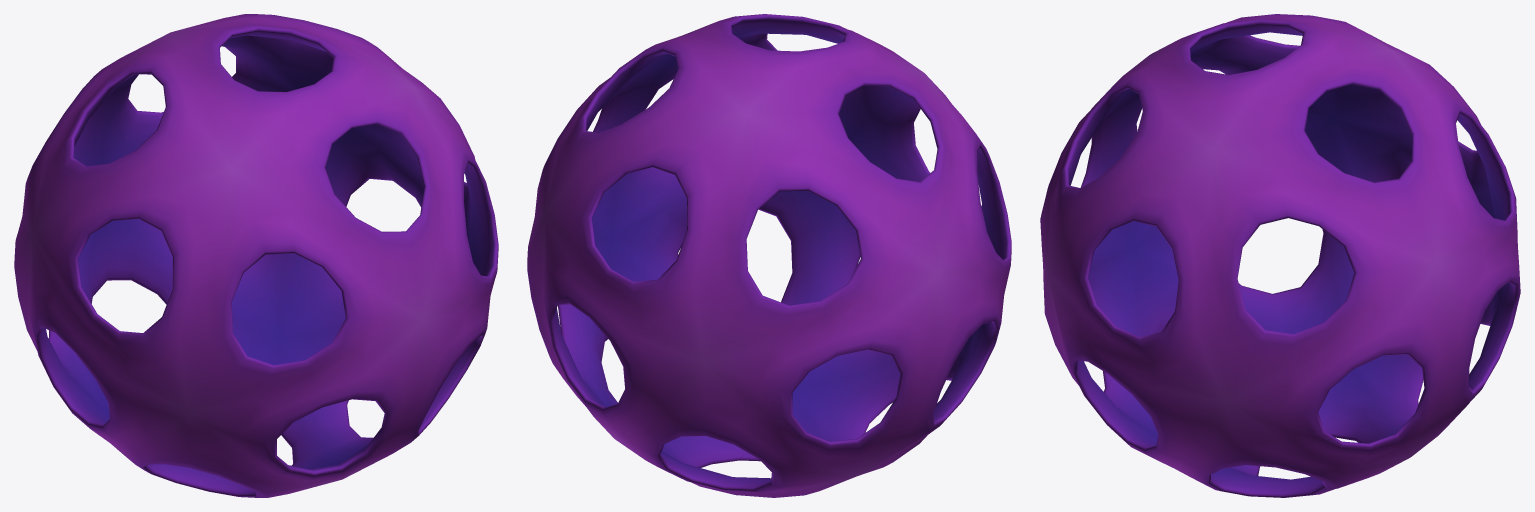
Rendered from Artifact_01.fbx.
3 views of the same model, side by side, from view 1: azimuth 30°, elevation 25°; view 2: azimuth 150°, elevation 25°; view 3: azimuth 270°, elevation 25° (orthographic).
Parts seen in each view (by area): view 1: Artifact_01; view 2: Artifact_01; view 3: Artifact_01.
Boxes of the visible parts, left/top/right/bottom form: Artifact_01: left=14, top=14, right=498, bottom=497; Artifact_01: left=527, top=14, right=1011, bottom=497; Artifact_01: left=1040, top=14, right=1520, bottom=497.
Size of the model in its own units: 141 by 140 by 140.
